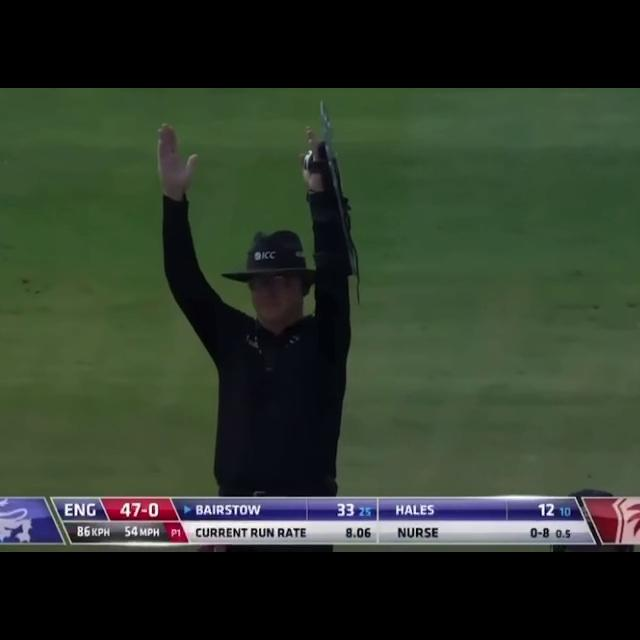umpire: (144, 101, 370, 496)
